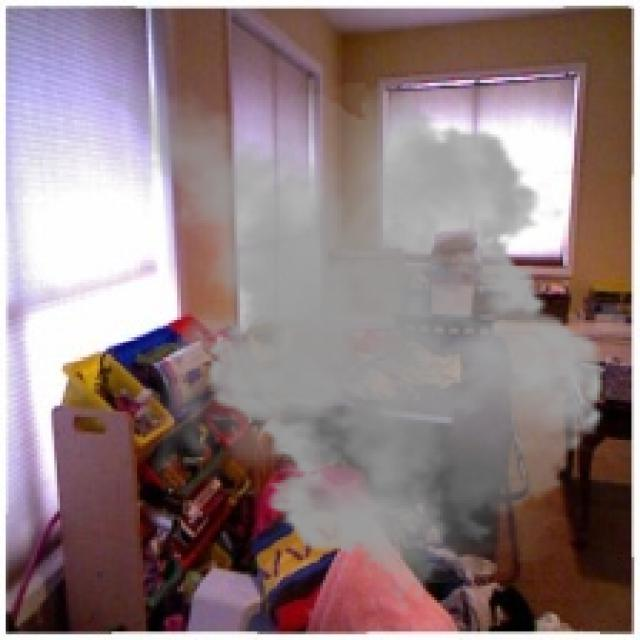smoke: (66, 63, 620, 614)
